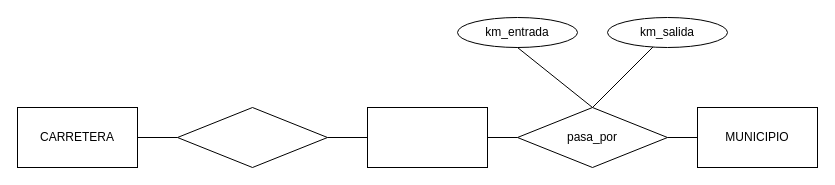
Image size: 835x185. Some labels were removed from this diagram. The shapes that lost their labels are listed below. From the top down, each one's centre as x and y in pixels, then its label:
point (252, 137): pertenece
point (427, 137): TRAMO
